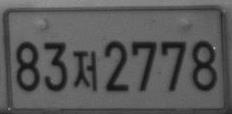2: (104, 40, 129, 91)
3: (43, 41, 68, 92)
7: (130, 40, 158, 92), (161, 40, 187, 92)
8: (190, 39, 217, 91), (15, 40, 39, 91)
저: (72, 50, 97, 91)
